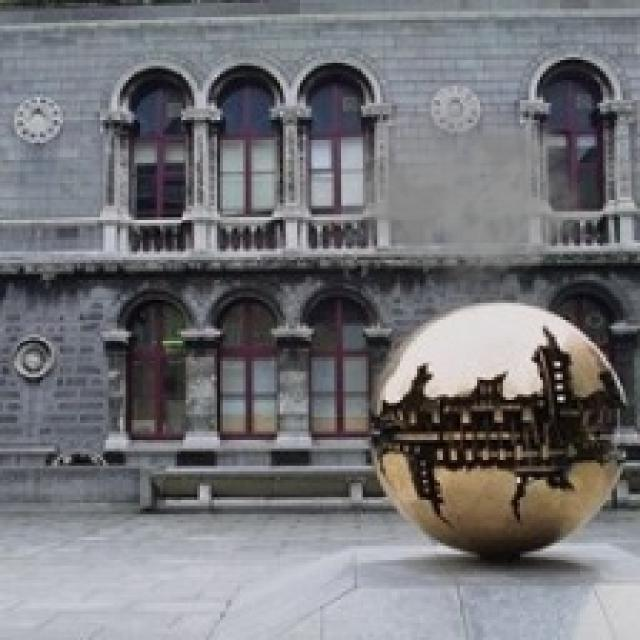smoke: (332, 85, 592, 288)
